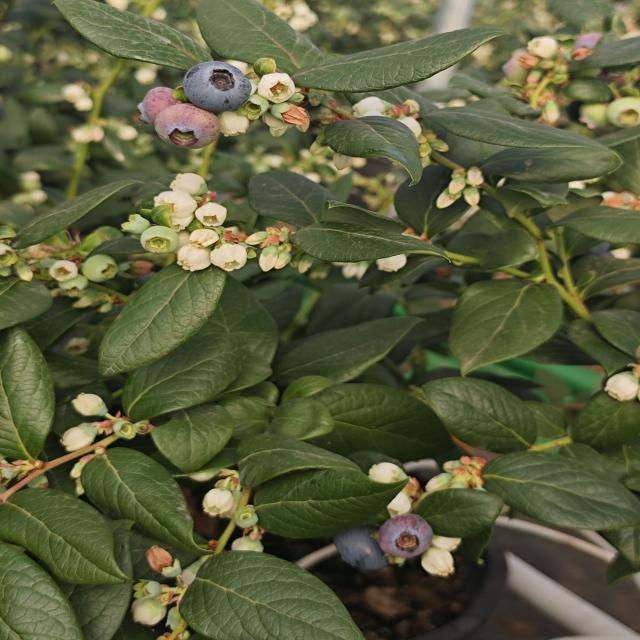ripe: (180, 59, 254, 114), (373, 512, 435, 561), (339, 530, 387, 566)
